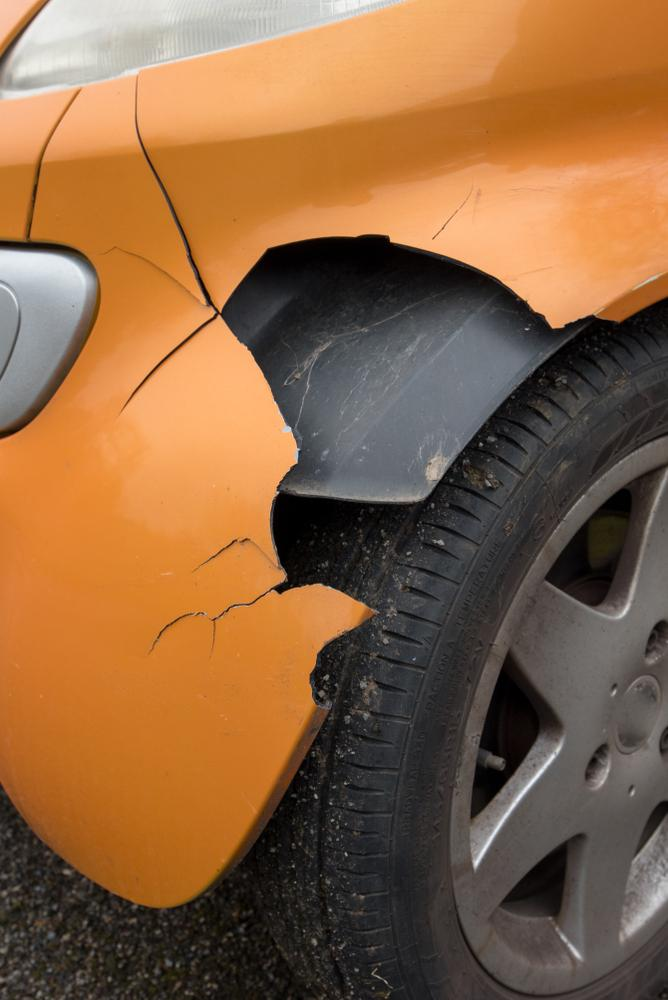crack: (100, 72, 222, 418), (145, 537, 291, 658), (427, 184, 473, 244)
